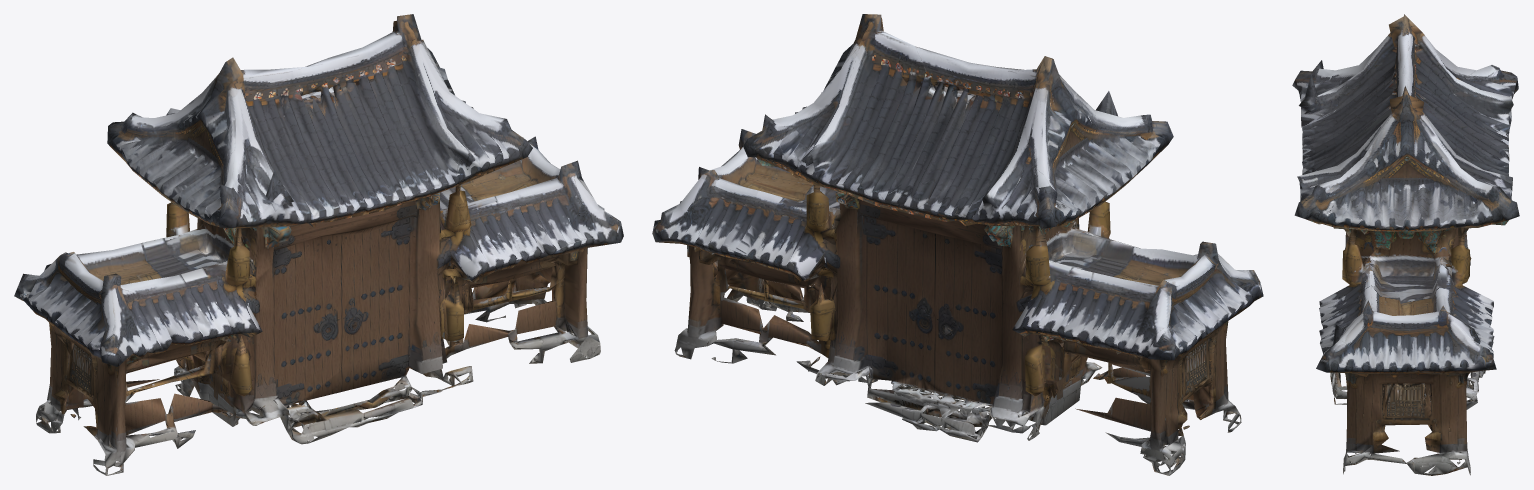
File: PR_SoseulDaemun.fbx
3 views of the same model, side by side, from view 1: azimuth 30°, elevation 25°; view 2: azimuth 150°, elevation 25°; view 3: azimuth 270°, elevation 25° (orthographic). The views are drawn at different scales.
Parts seen in each view (by area): view 1: texture_mapping; view 2: texture_mapping; view 3: texture_mapping.
Boxes of the visible parts, x1,y1,x2,y2 form: texture_mapping: (14,14,623,475); texture_mapping: (652,14,1263,475); texture_mapping: (1292,14,1519,475).
Bounding box in the file's own units: 0.9956 × 0.4186 × 0.6587.
Materials: 1 (1 with a texture image).
